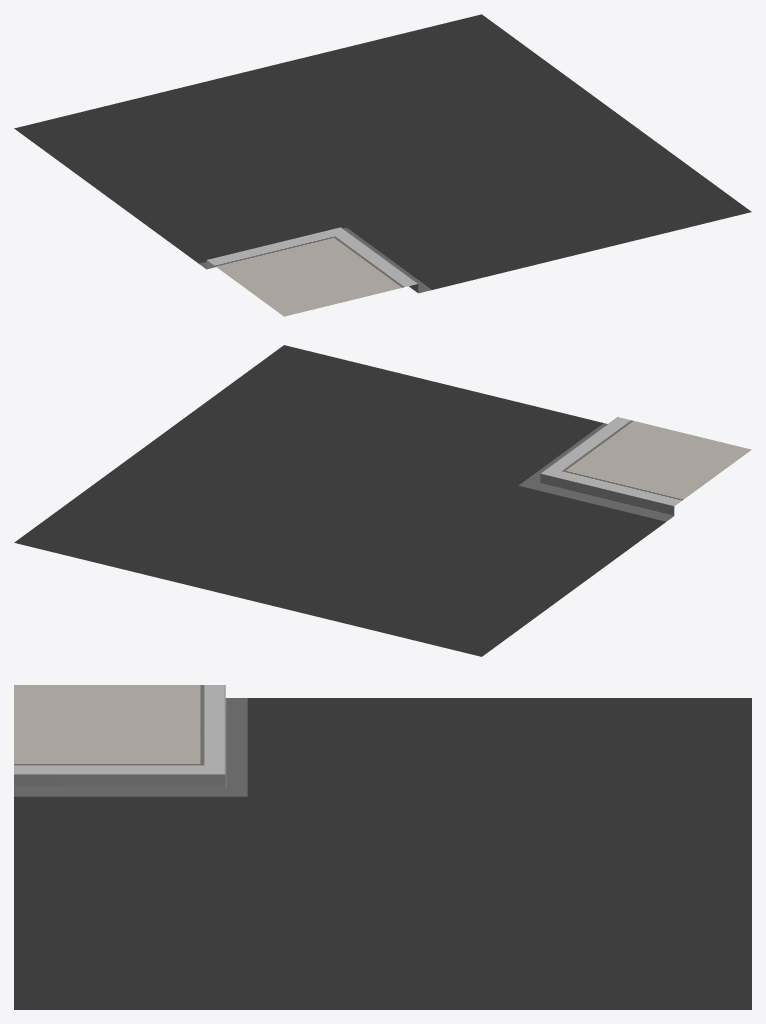
Rendered from road_corner_mesh.fbx.
3 views of the same model, one above another, from view 1: azimuth 30°, elevation 25°; view 2: azimuth 150°, elevation 25°; view 3: azimuth 270°, elevation 25° (orthographic). The views are drawn at different scales.
Parts seen in each view (by area): view 1: road_corner_mesh; view 2: road_corner_mesh; view 3: road_corner_mesh.
Boxes of the visible parts, <box> form: road_corner_mesh: <box>14,14,751,316</box>; road_corner_mesh: <box>14,345,751,656</box>; road_corner_mesh: <box>14,685,751,1009</box>.
Bounding box in the file's own units: 0.1 × 0.00195 × 0.1.
Materials: 1 (1 with a texture image).
